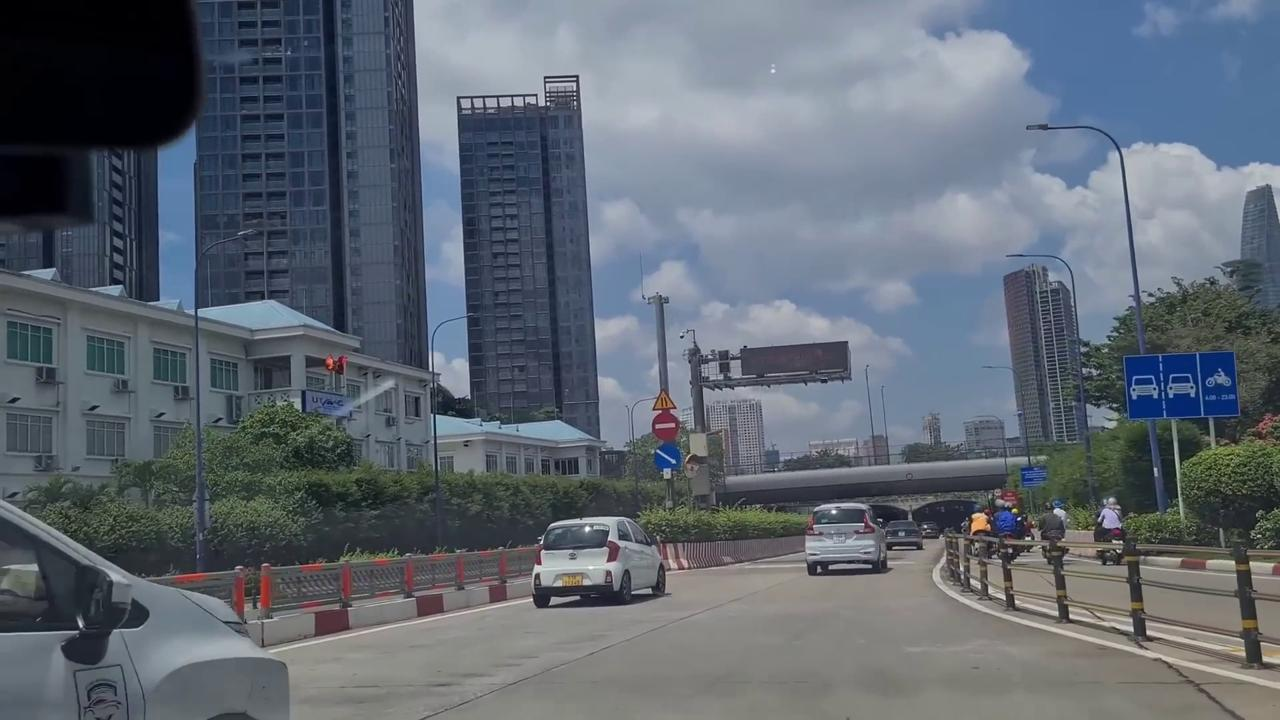Cấm đi ngược chiều: (652, 411, 682, 442)
Hướng phải đi vòng sang phải: (653, 442, 682, 472)
Làn đường cho từng xe: (1122, 351, 1242, 420)
Đuờng hẹp: (650, 388, 677, 410)
